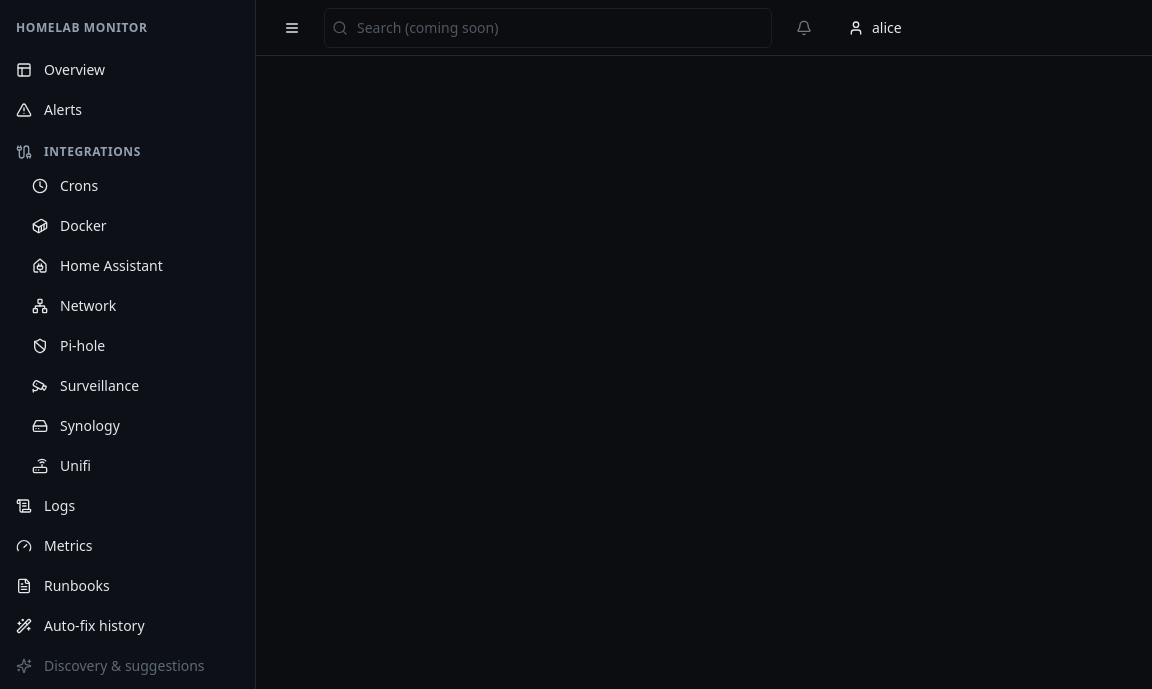
AppShell › collapses the sidebar when the Toggle sidebar button is clicked
Expected: the text "Homelab Monitor" is shown, left=16, top=19, right=148, bottom=36
Click the button named "Toggle sidebar": [292, 28] box left=272, top=8, right=312, bottom=48
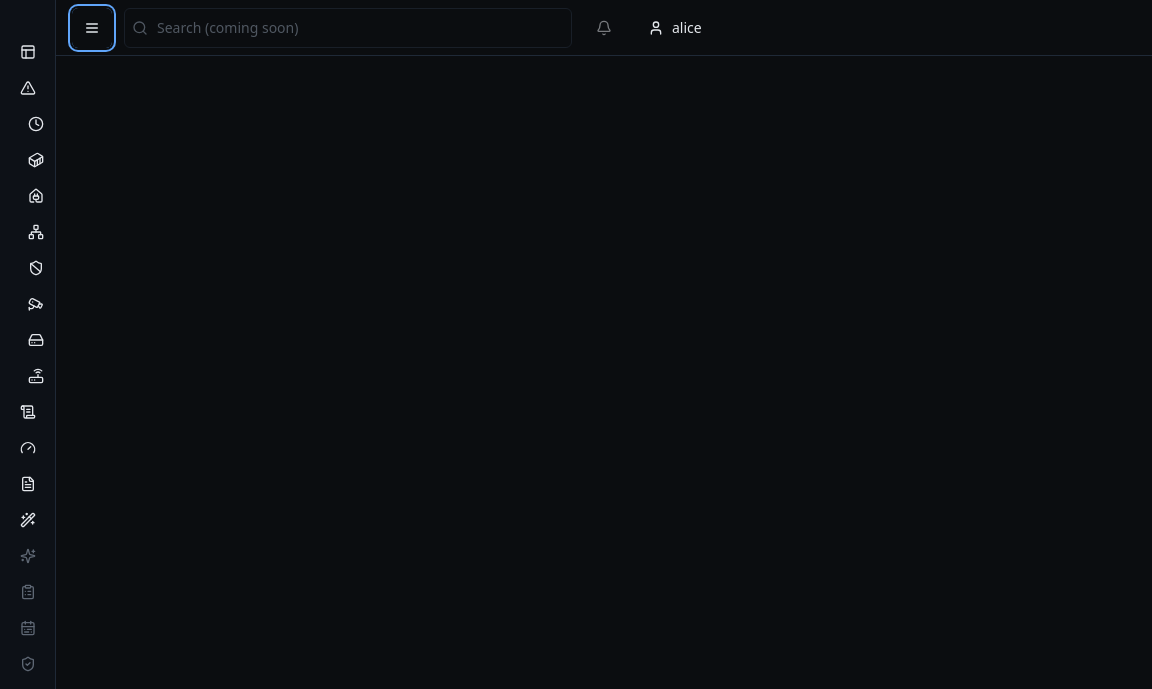
Now the text "Homelab Monitor" is gone
